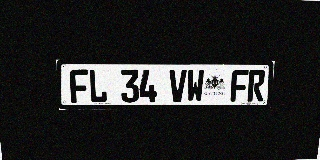3: (121, 69, 139, 103)
4: (139, 70, 157, 102)
F: (69, 69, 89, 103), (230, 70, 249, 102)
L: (88, 69, 107, 103)
R: (247, 70, 266, 101)
V: (169, 70, 187, 102)
W: (186, 70, 204, 102)
